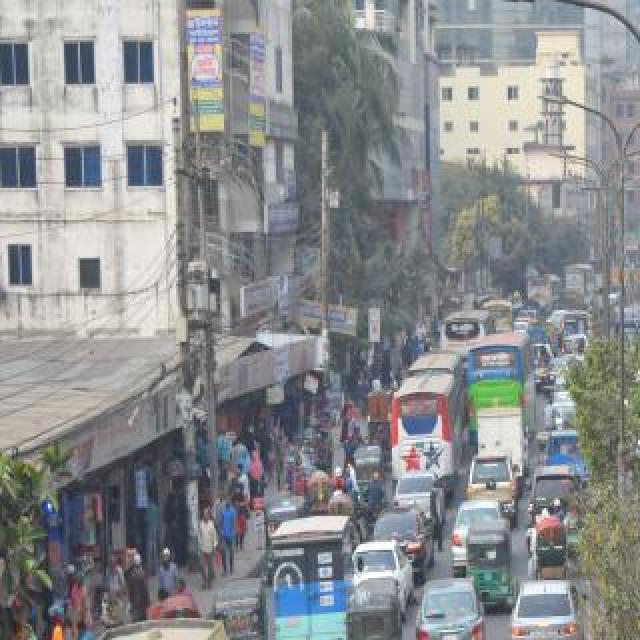bus: (391, 373, 461, 495), (463, 330, 537, 430), (0, 618, 248, 640), (437, 311, 491, 353), (408, 352, 462, 390), (484, 294, 514, 332), (526, 274, 562, 304), (564, 262, 594, 294)
car: (510, 574, 582, 640), (416, 574, 488, 640), (353, 537, 413, 601), (454, 498, 506, 570), (375, 506, 431, 568), (399, 468, 445, 528), (543, 356, 573, 386), (626, 408, 640, 470), (636, 460, 640, 510), (306, 638, 400, 640)
truck: (552, 285, 584, 311)
van: (266, 514, 350, 640), (523, 461, 585, 517), (469, 450, 521, 514), (477, 407, 527, 473), (542, 427, 590, 475), (612, 304, 640, 356), (610, 264, 640, 294), (561, 331, 587, 365), (561, 309, 589, 335), (529, 319, 549, 349)
